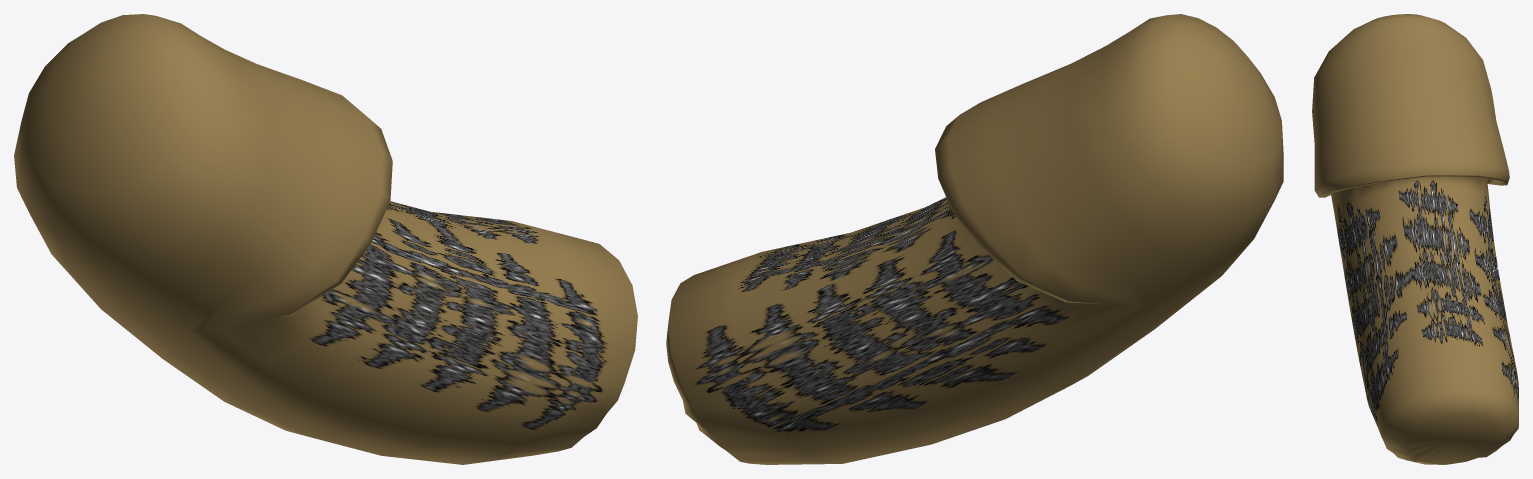
Rendered from KUY.fbx.
The picture shows the model from 3 angles, left to right: view 1: azimuth 30°, elevation 25°; view 2: azimuth 150°, elevation 25°; view 3: azimuth 270°, elevation 25°; orthographic projection. The views are drawn at different scales.
Visible parts, largest first — view 1: pCylinder5; view 2: pCylinder5; view 3: pCylinder5.
Part boxes in pixels (x1,y1,x2,y2): pCylinder5: [14, 14, 637, 464]; pCylinder5: [666, 14, 1283, 464]; pCylinder5: [1312, 14, 1518, 464].
Bounding box in the file's own units: 5.53 × 4.75 × 2.67.
